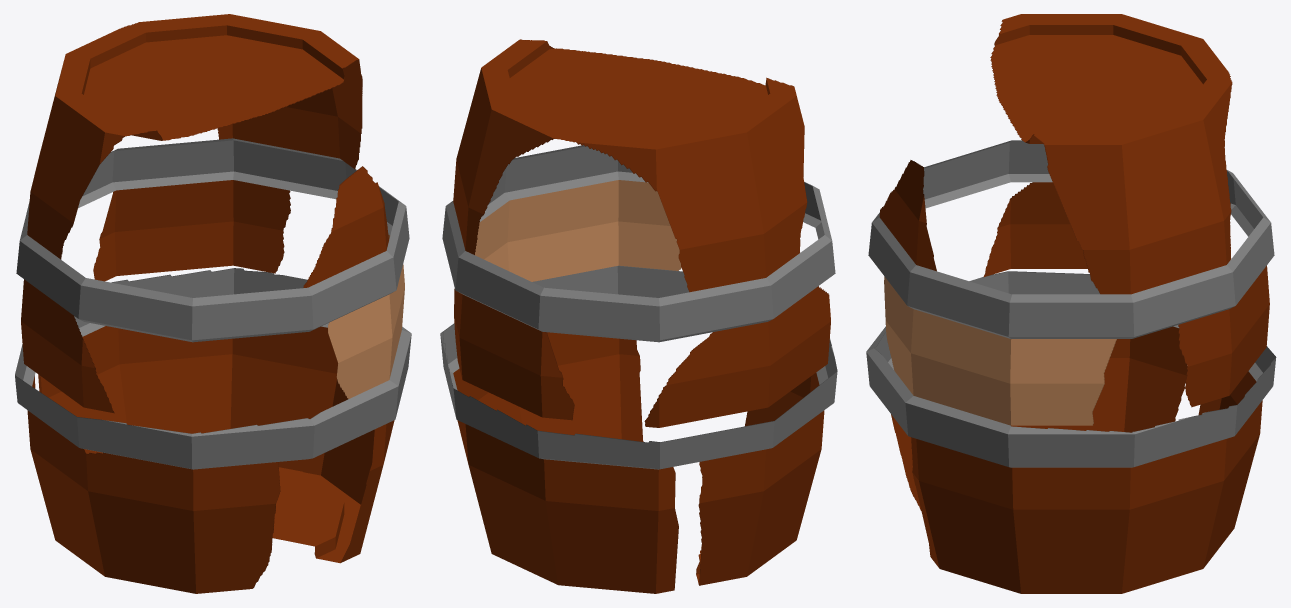
File: barrel.obj
3 renders of one model, left to right at view 1: azimuth 30°, elevation 25°; view 2: azimuth 150°, elevation 25°; view 3: azimuth 270°, elevation 25°, orthographic.
Parts seen in each view (by area): view 1: Cylinder; view 2: Cylinder; view 3: Cylinder.
Boxes of the visible parts, left/top/right/bottom form: Cylinder: left=15, top=14, right=411, bottom=593; Cylinder: left=440, top=39, right=837, bottom=593; Cylinder: left=866, top=14, right=1276, bottom=593.
Bounding box in the file's own units: 2.4 × 3.04 × 2.52.
